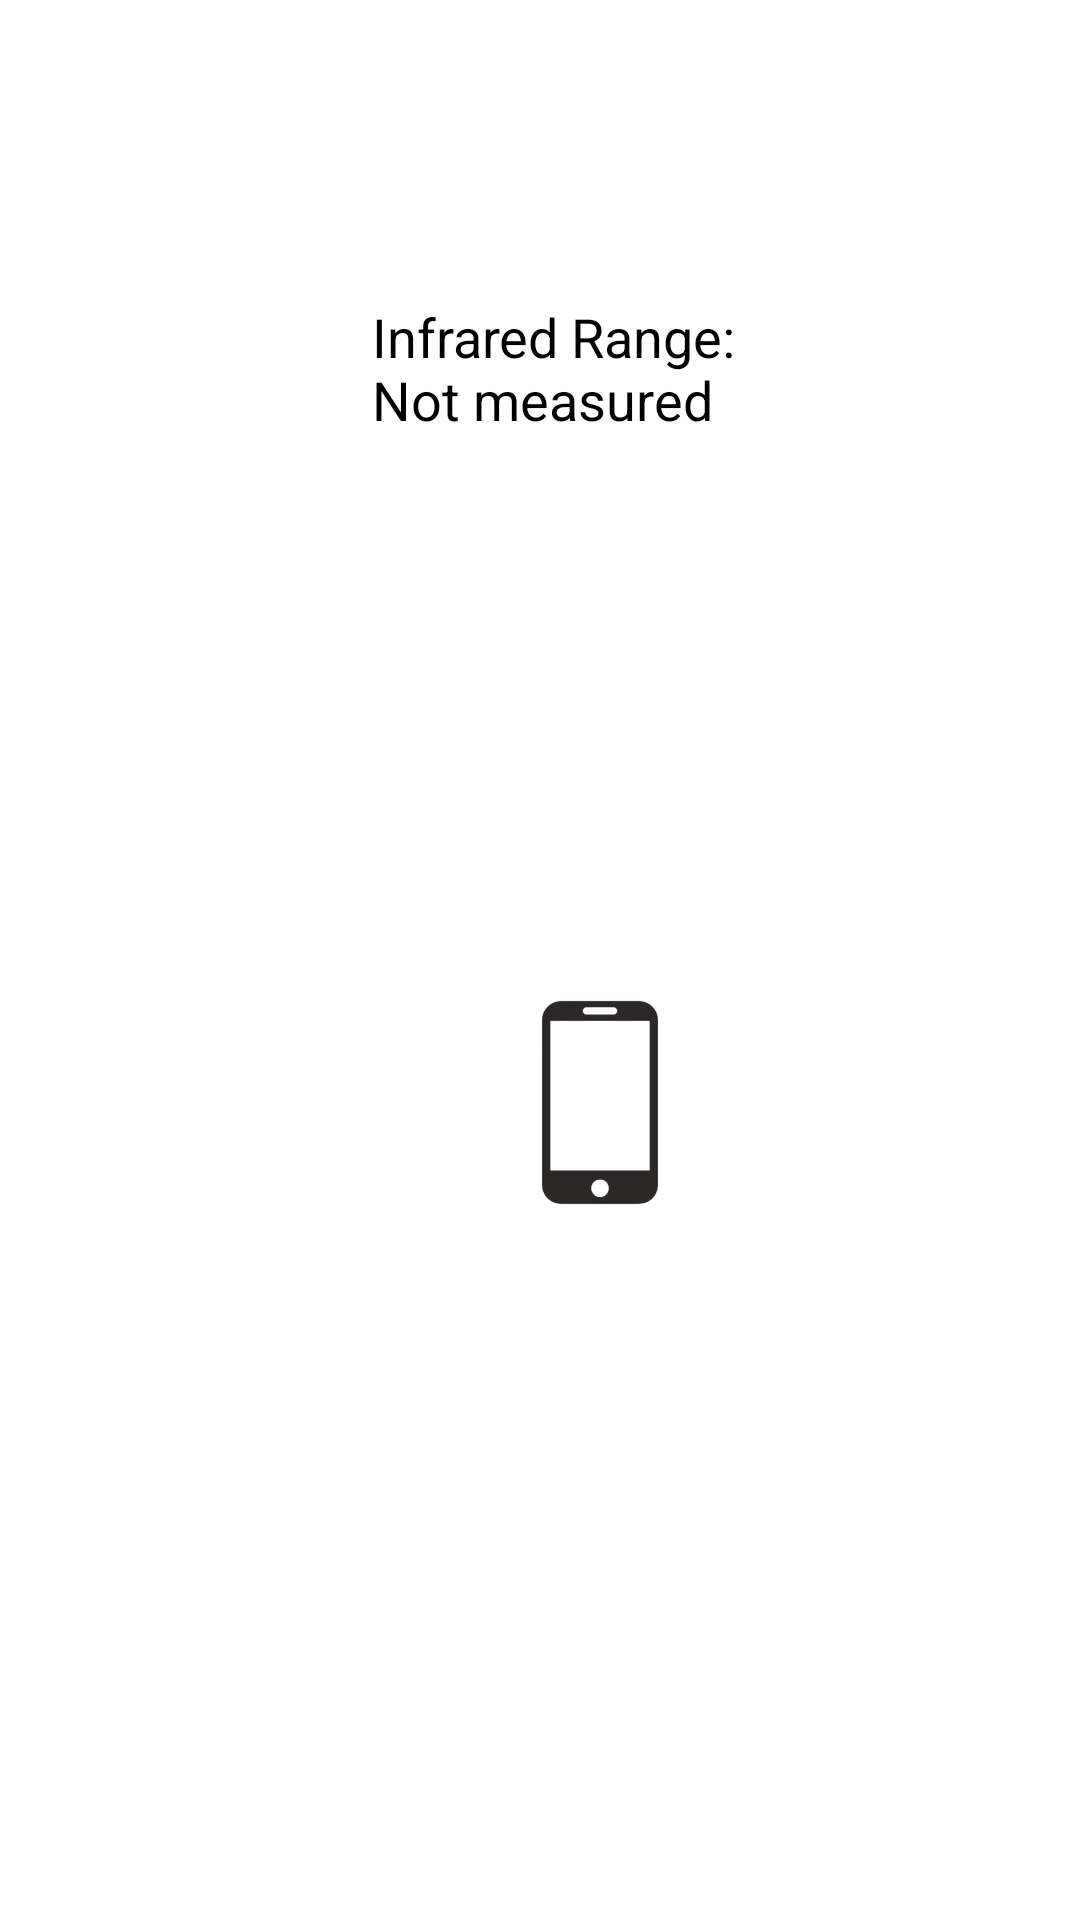

Screen size 1080 × 1920. Icon name, then its center in pixels as (x=x, y=y):
phone: (x=600, y=1102)
